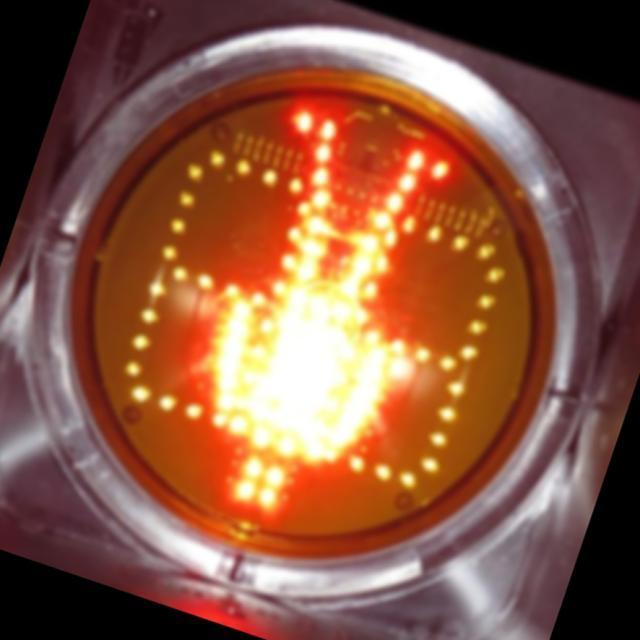red-crossing: (145, 81, 492, 558)
